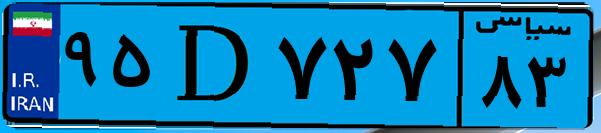2: (330, 28, 385, 110)
3: (525, 38, 570, 115)
5: (110, 28, 158, 98)
7: (270, 28, 330, 110), (385, 28, 445, 110)
8: (475, 38, 525, 113)
9: (57, 26, 110, 100)
D: (158, 12, 270, 120)
